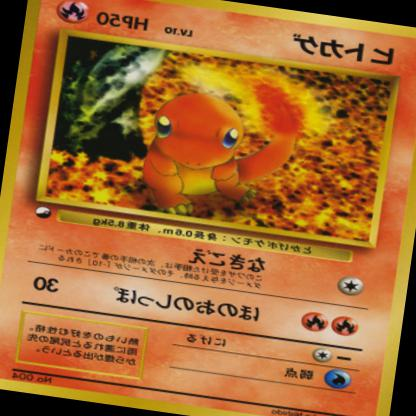Charmander: (129, 69, 307, 231)
